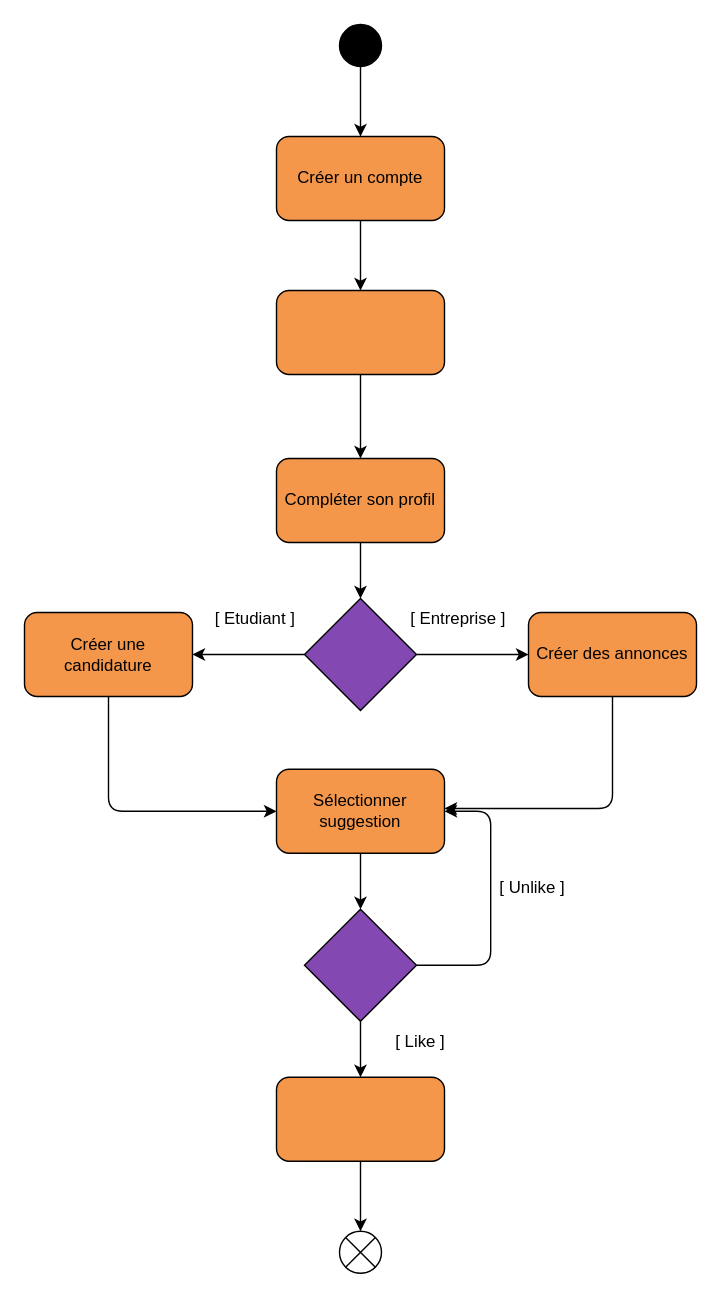
Some shapes in this 721 by 1298 pixel diagram are drawn without their labels. The box of each missing label's shape, as (x1, y1, x2, y2) in pixels:
Lancer la discution: (275, 1076, 444, 1161)
S'authentifier: (275, 289, 444, 374)
